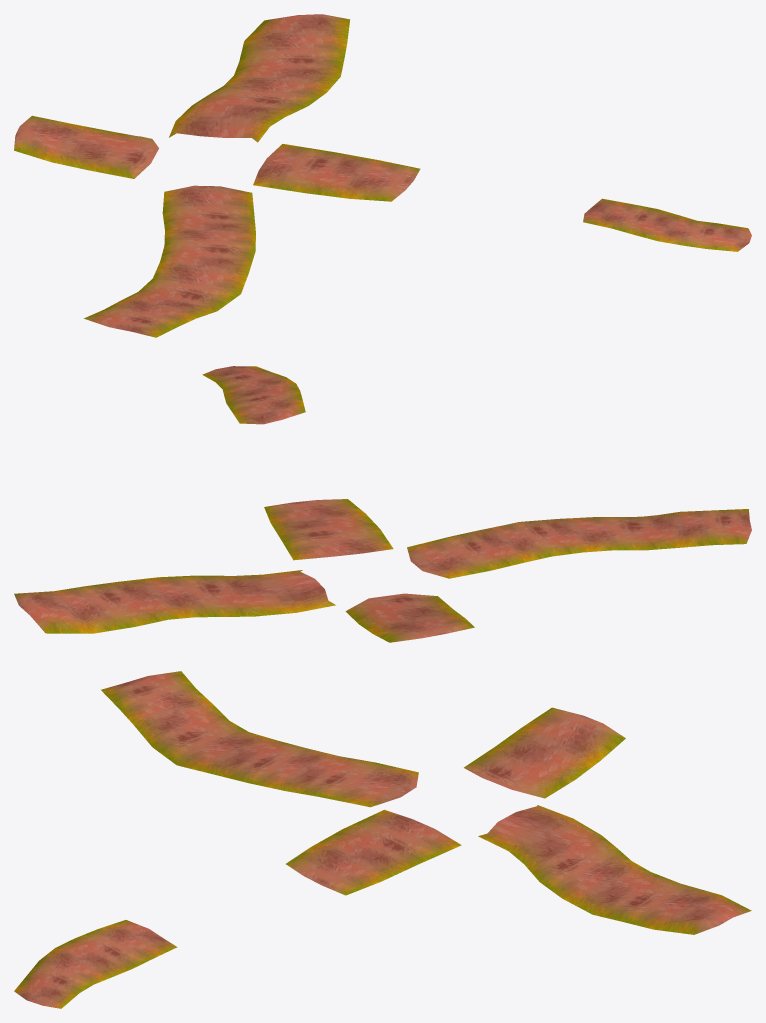
The model's file is AG_Path_Art.fbx.
3 renders of one model, top to bottom at view 1: azimuth 30°, elevation 25°; view 2: azimuth 150°, elevation 25°; view 3: azimuth 270°, elevation 25°, orthographic. The views are drawn at different scales.
Visible parts, largest first — view 1: AG_Paths; view 2: AG_Paths; view 3: AG_Paths.
Part boxes in pixels (bbox=[...]): AG_Paths: bbox=[14, 14, 751, 337]; AG_Paths: bbox=[14, 366, 751, 642]; AG_Paths: bbox=[14, 671, 751, 1008].
Size of what is drawn, in the model's own units: 5249 by 298 by 5129.
